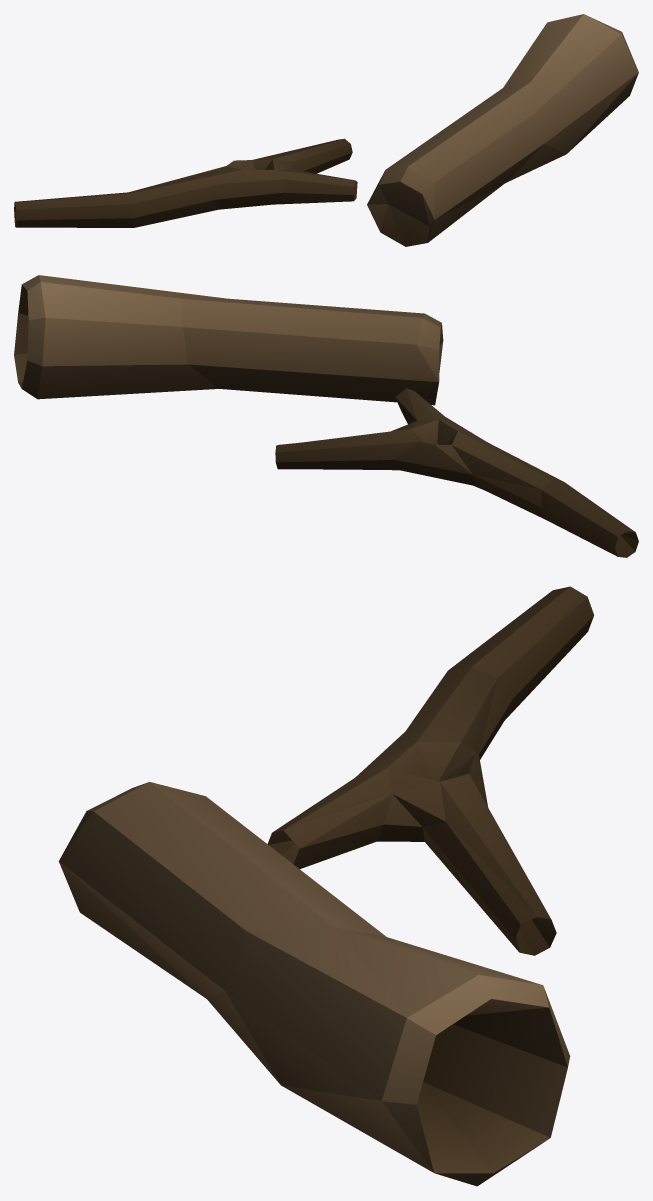
The model's file is props 0 - 10.fbx.
3 renders of one model, top to bottom at view 1: azimuth 30°, elevation 25°; view 2: azimuth 150°, elevation 25°; view 3: azimuth 270°, elevation 25°, orthographic. The views are drawn at different scales.
Parts seen in each view (by area): view 1: 010; view 2: 010; view 3: 010.
Part boxes in pixels (<box>): 010: <box>14,14,638,246</box>; 010: <box>14,275,638,557</box>; 010: <box>58,586,593,1186</box>.
Bounding box in the file's own units: 366 × 62.41 × 145.
